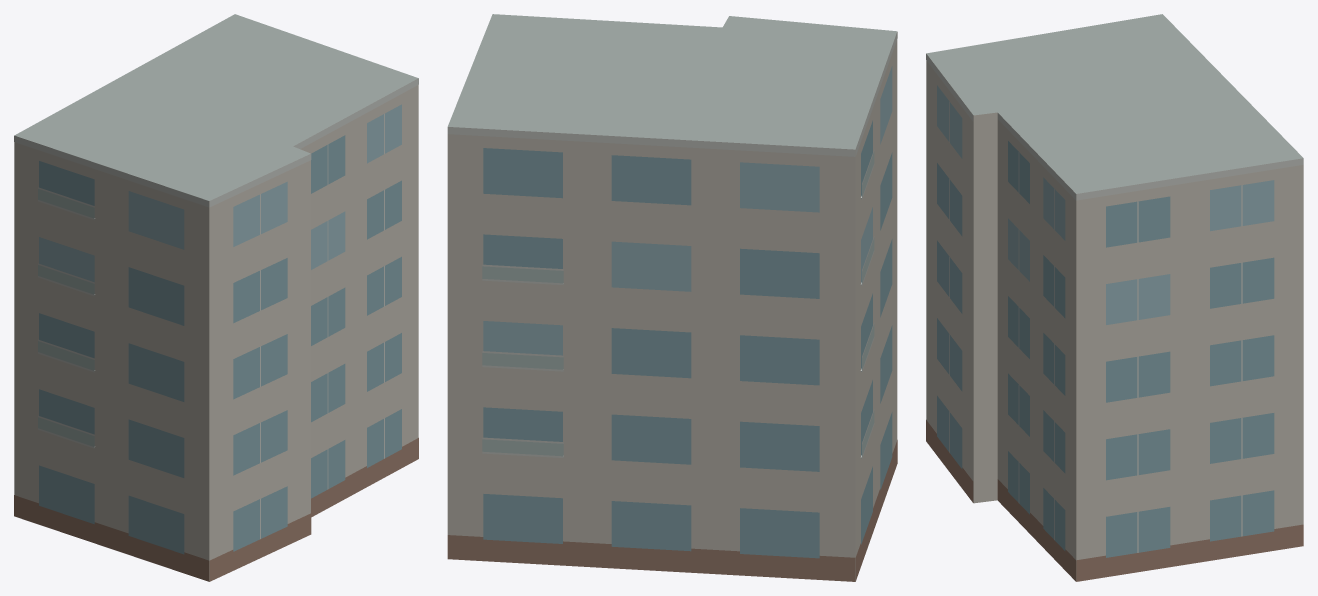
Rendered from survey-upis-32866462.glb.
The picture shows the model from 3 angles, left to right: view 1: azimuth 30°, elevation 25°; view 2: azimuth 150°, elevation 25°; view 3: azimuth 270°, elevation 25°; orthographic projection. The views are drawn at different scales.
Visible parts, largest first — view 1: survey-upis-32866462.tmp; view 2: survey-upis-32866462.tmp; view 3: survey-upis-32866462.tmp.
Part boxes in pixels (bbox=[...]): survey-upis-32866462.tmp: bbox=[14, 14, 418, 581]; survey-upis-32866462.tmp: bbox=[447, 14, 897, 581]; survey-upis-32866462.tmp: bbox=[926, 14, 1303, 581].
Size of the model in its own units: 14.34 by 14.4 by 12.71.
